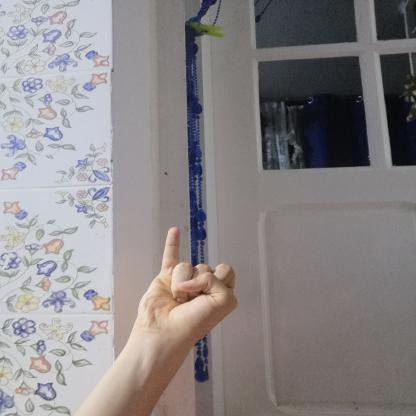MEEM: (124, 219, 245, 349)
